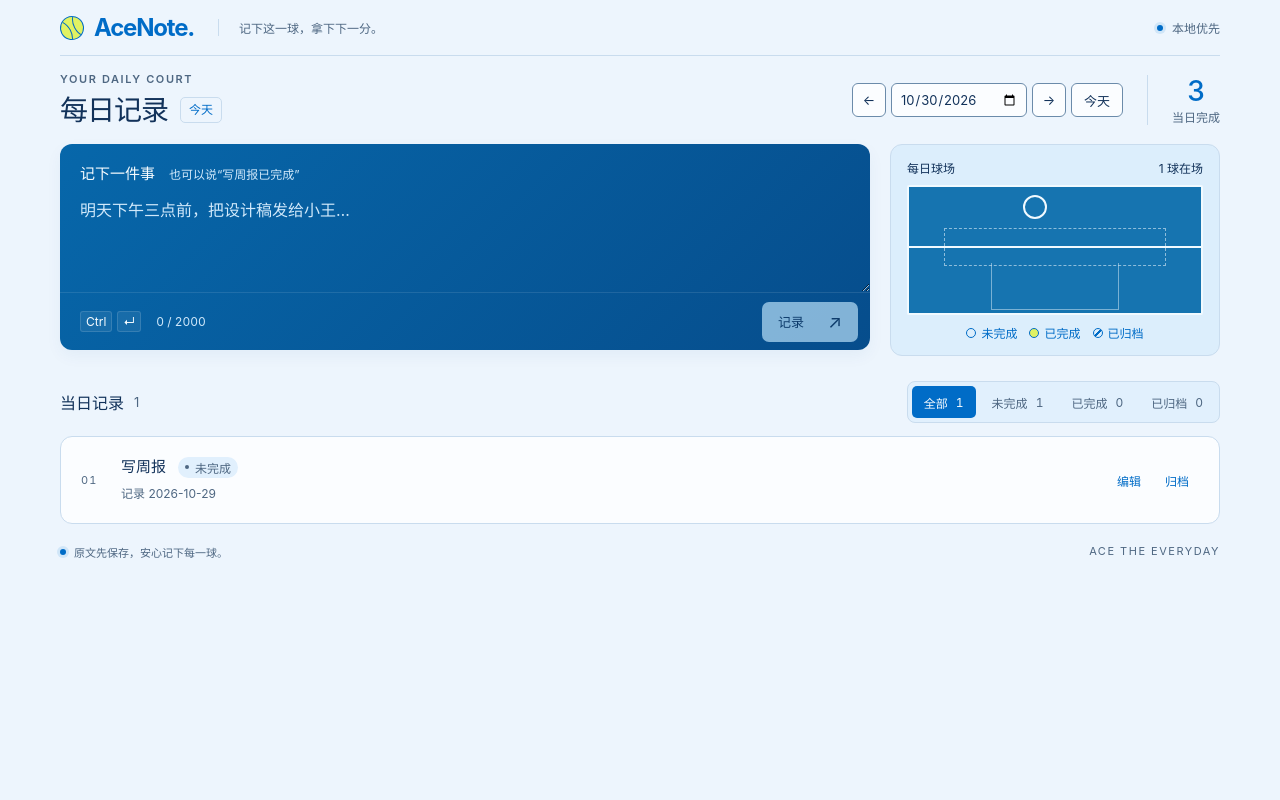
Test: UI polish behavior › keeps ambiguous candidates and draft visible after a stale selection fails
Type "周报完成" into the text box named "待办或完成指令" at (465, 238), box x1=60 y1=183 x2=870 y2=292
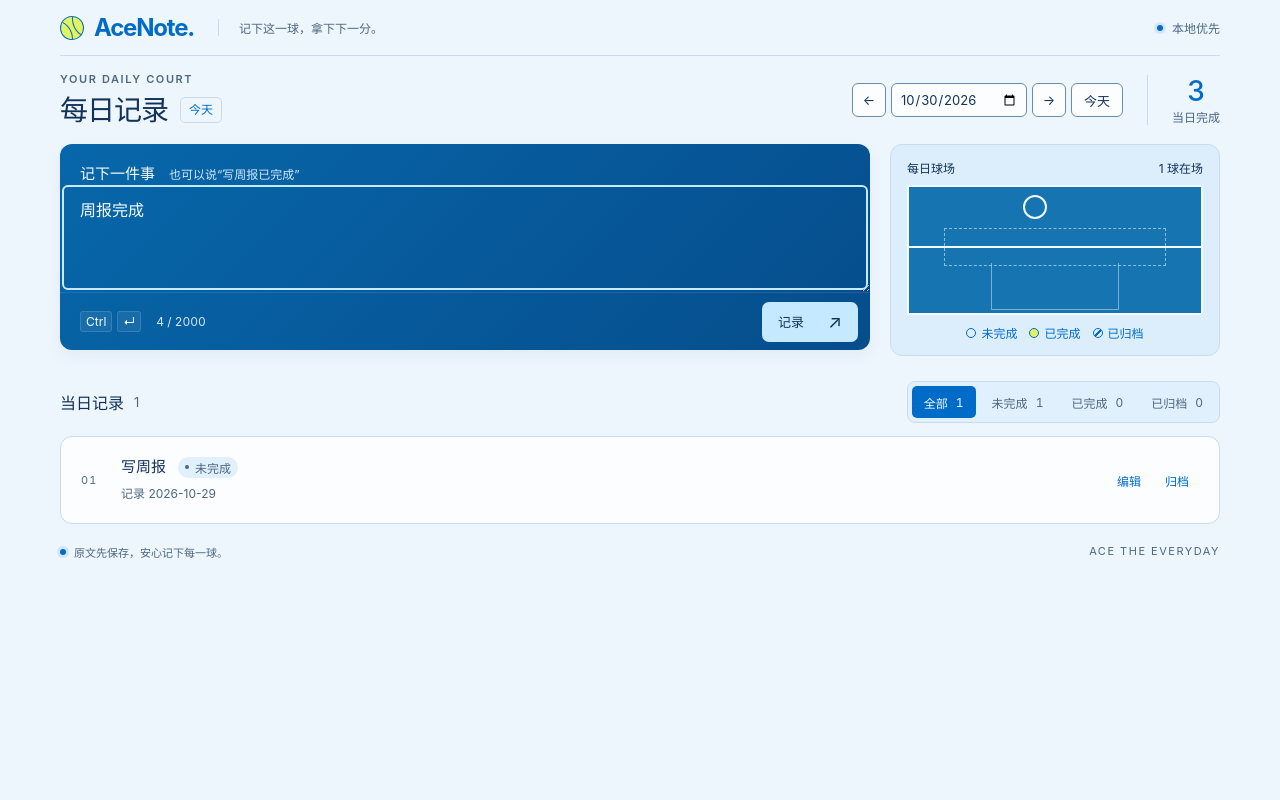
Click the button "记录 ↗" at (810, 322), box x1=762 y1=302 x2=858 y2=342
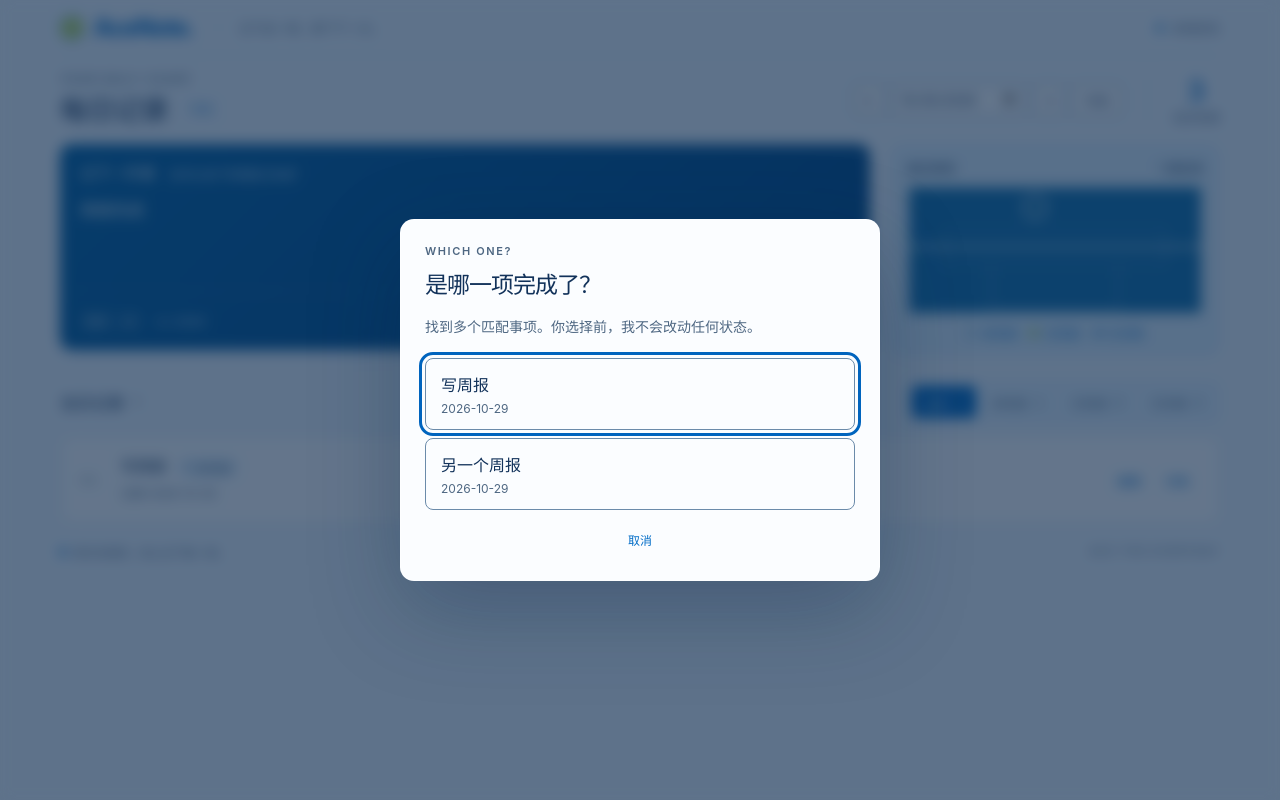
Check: the dialog is shown, box x1=400 y1=219 x2=880 y2=581
Click the button "写周报 2026-10-29" at (465, 385), box x1=425 y1=358 x2=855 y2=430
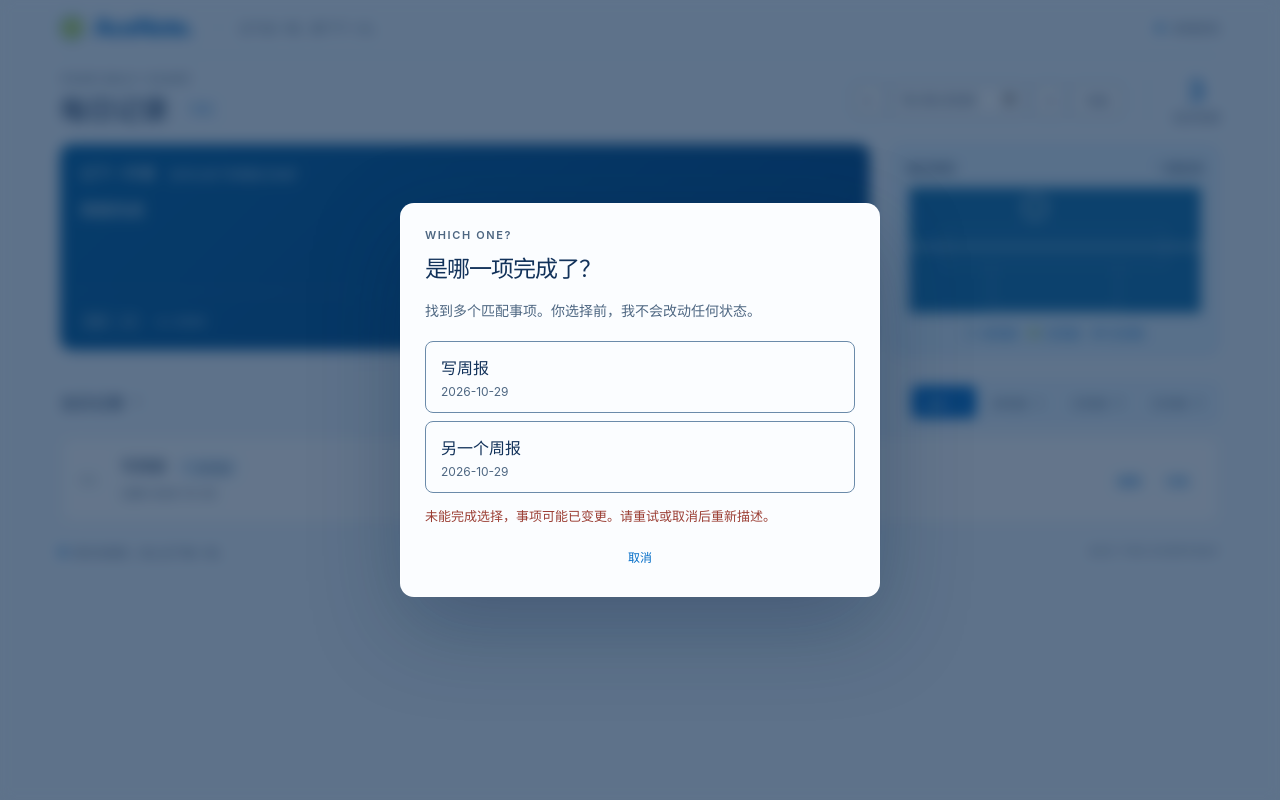
Check: the dialog is shown, box x1=400 y1=202 x2=880 y2=598
Check: the message shows "事项可能已变更", box x1=425 y1=508 x2=776 y2=524
